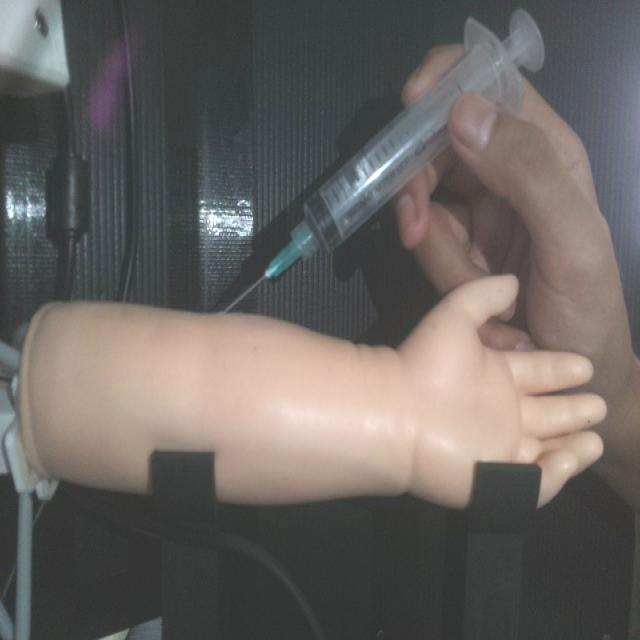Above 30 degrees: (218, 7, 546, 313)
